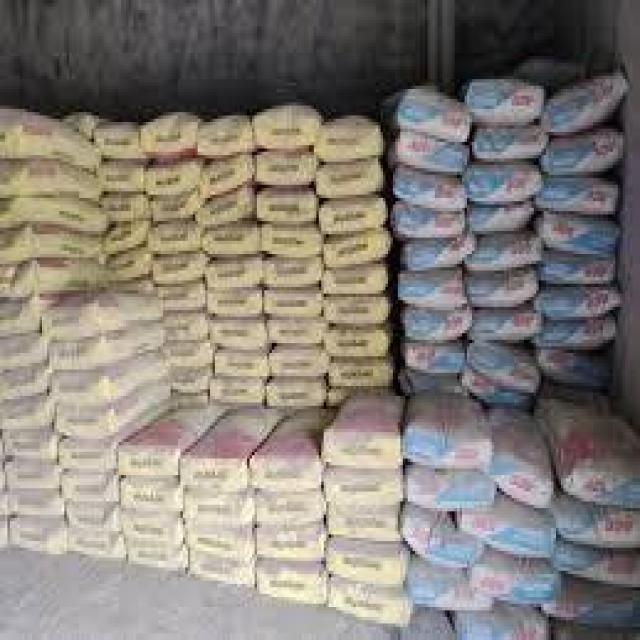gunny_bag: (534, 404, 640, 502), (181, 406, 289, 493), (116, 404, 231, 480), (248, 405, 343, 491), (403, 391, 490, 479), (59, 377, 173, 437), (56, 351, 168, 406), (0, 117, 101, 173), (50, 321, 164, 369), (399, 510, 481, 572), (45, 296, 163, 339), (461, 505, 554, 556), (329, 580, 413, 635), (547, 72, 627, 129), (557, 499, 640, 553), (2, 159, 101, 204), (547, 126, 620, 181), (397, 92, 471, 146), (474, 559, 560, 605), (1, 225, 101, 264), (556, 542, 640, 587), (2, 196, 105, 232), (464, 80, 541, 125), (406, 469, 494, 506), (254, 524, 328, 567), (394, 169, 465, 213), (322, 193, 387, 241), (330, 544, 402, 587), (328, 467, 404, 505), (472, 231, 538, 274), (326, 225, 390, 269), (399, 267, 461, 311), (544, 217, 616, 254), (330, 505, 398, 544), (256, 568, 325, 606), (182, 490, 251, 528), (466, 166, 539, 201), (256, 491, 325, 528), (467, 305, 539, 340), (315, 121, 379, 160), (542, 288, 623, 318), (201, 154, 253, 200), (468, 273, 537, 307), (541, 352, 610, 386), (320, 161, 381, 199), (198, 187, 253, 229), (187, 527, 253, 562), (538, 182, 616, 211), (5, 426, 60, 467), (322, 261, 386, 296), (473, 128, 542, 160), (543, 317, 612, 349), (148, 154, 198, 198), (399, 134, 465, 167), (187, 555, 253, 587), (258, 110, 315, 147), (547, 256, 617, 286), (211, 318, 266, 356), (396, 207, 465, 237), (403, 310, 472, 340), (403, 239, 471, 269), (121, 478, 183, 510), (404, 343, 470, 373), (470, 204, 536, 233), (266, 255, 322, 289), (103, 212, 147, 255), (62, 437, 119, 470), (258, 191, 314, 224), (6, 460, 62, 493), (147, 221, 202, 254), (330, 327, 390, 357), (153, 252, 205, 286), (267, 317, 324, 348), (269, 380, 326, 411), (199, 122, 251, 155), (271, 348, 328, 378), (265, 223, 320, 254), (258, 151, 313, 182), (325, 296, 388, 323), (10, 489, 63, 521), (124, 512, 178, 543), (64, 474, 118, 505), (214, 378, 264, 411), (208, 257, 261, 288), (332, 361, 395, 387), (267, 288, 322, 317), (99, 125, 144, 160), (68, 505, 120, 533), (1, 366, 47, 397), (160, 281, 204, 313), (212, 291, 260, 320), (216, 352, 266, 379), (6, 332, 43, 368), (166, 311, 205, 345), (168, 340, 215, 368), (104, 163, 142, 196), (207, 229, 256, 254)
